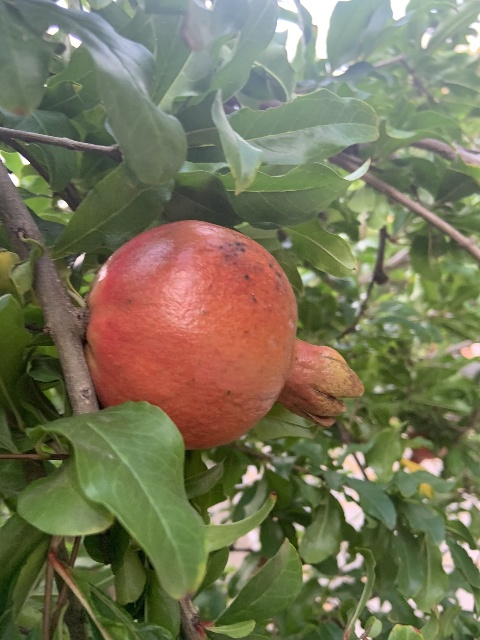ripe: (83, 220, 367, 449)
